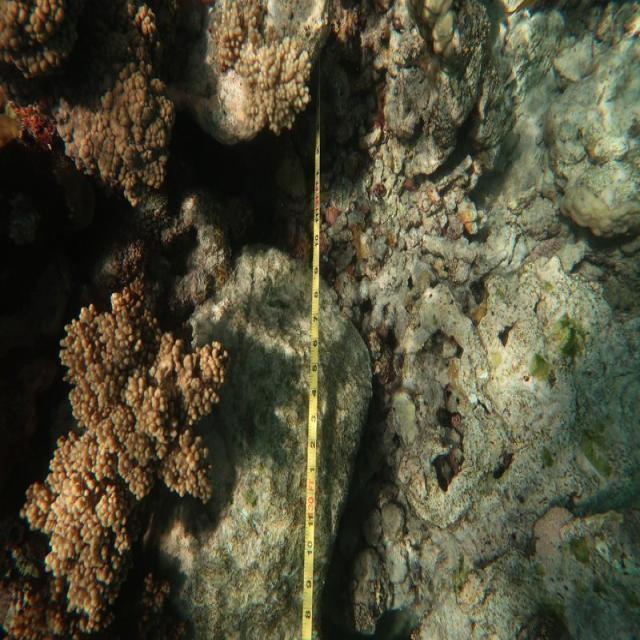Healthy Coral: (0, 267, 229, 640), (0, 0, 172, 187)
